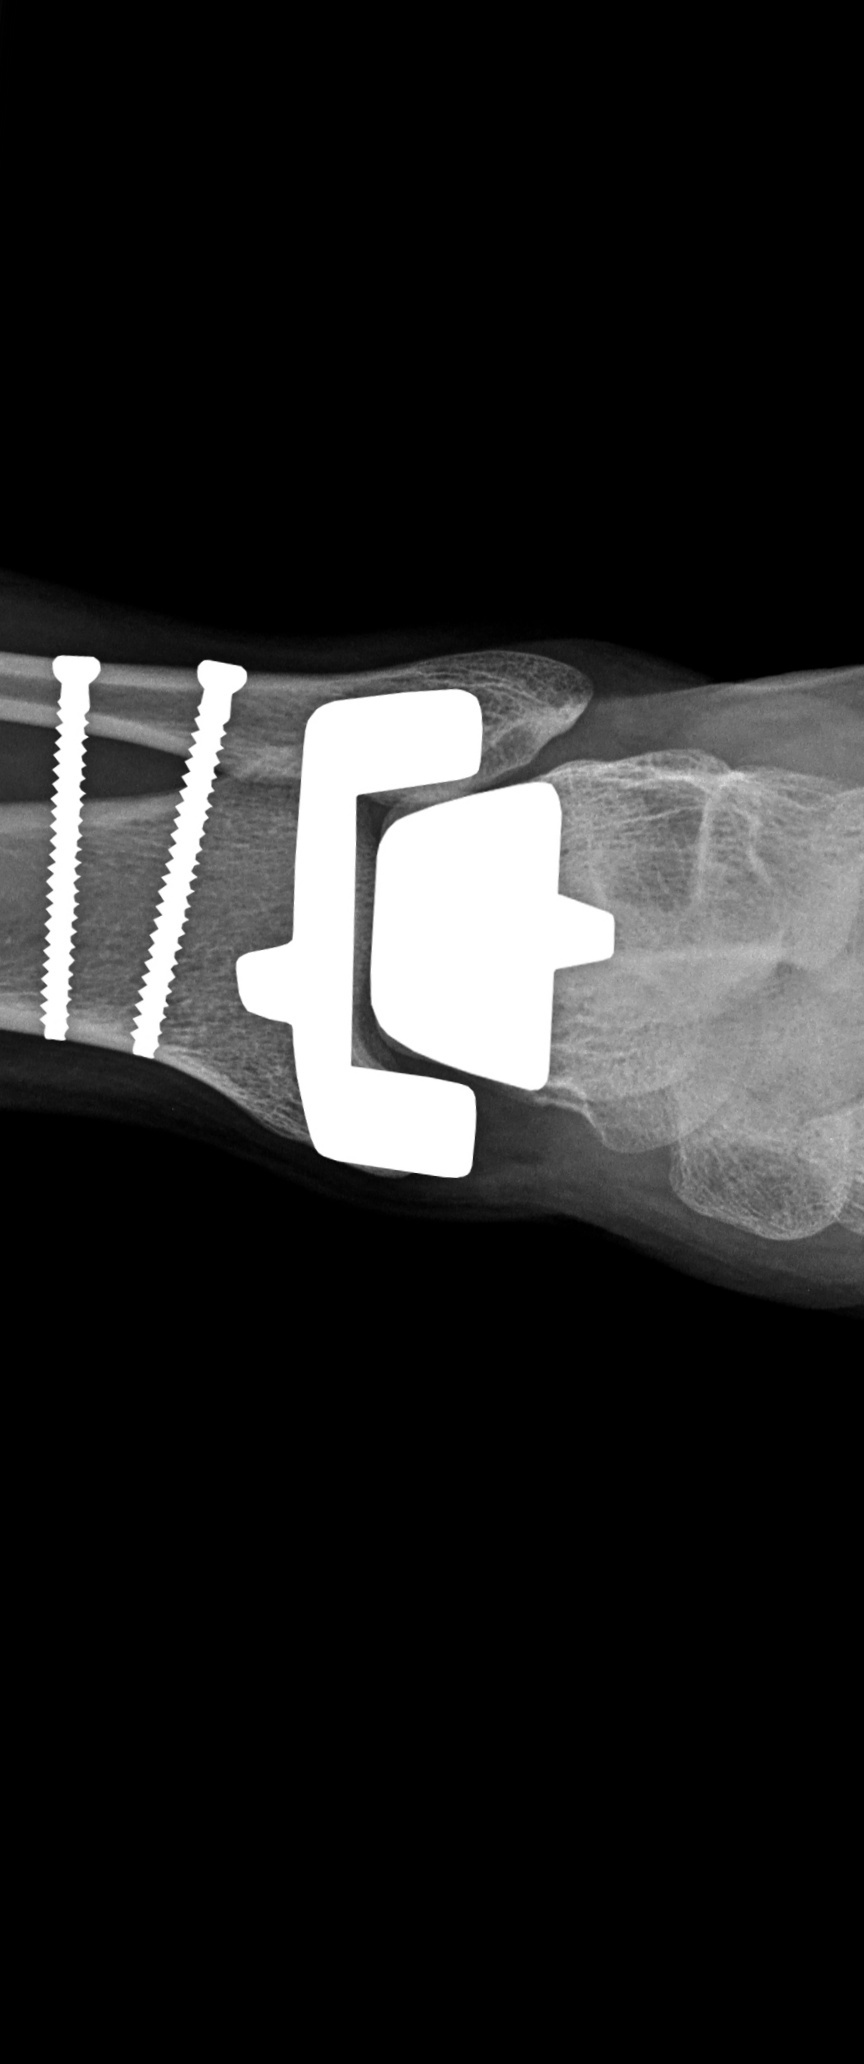Ankle - Agility - DePuy: (26, 624, 643, 1216)
